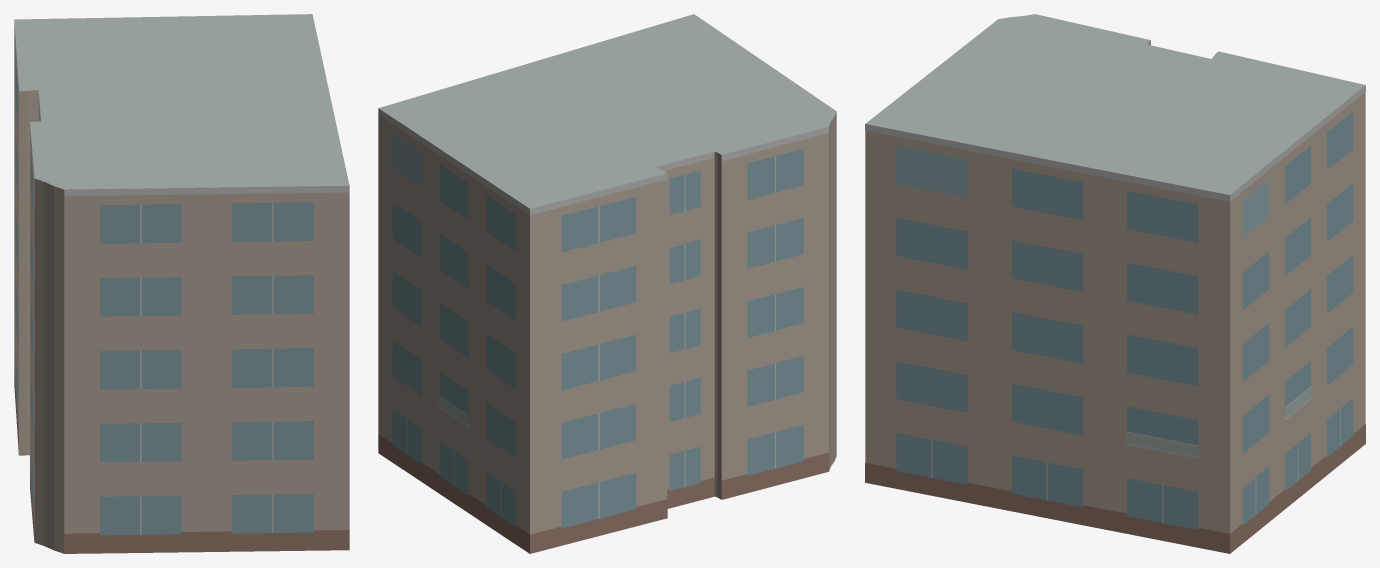
The model's file is survey-upis-32844512.glb.
3 renders of one model, left to right at view 1: azimuth 30°, elevation 25°; view 2: azimuth 150°, elevation 25°; view 3: azimuth 270°, elevation 25°, orthographic. The views are drawn at different scales.
Visible parts, largest first — view 1: survey-upis-32844512.tmp; view 2: survey-upis-32844512.tmp; view 3: survey-upis-32844512.tmp.
Boxes of the visible parts, x1,y1,x2,y2 form: survey-upis-32844512.tmp: [14, 14, 349, 553]; survey-upis-32844512.tmp: [378, 14, 836, 553]; survey-upis-32844512.tmp: [865, 14, 1365, 553].
Size of the model in its own units: 14.41 by 13.3 by 16.83.
